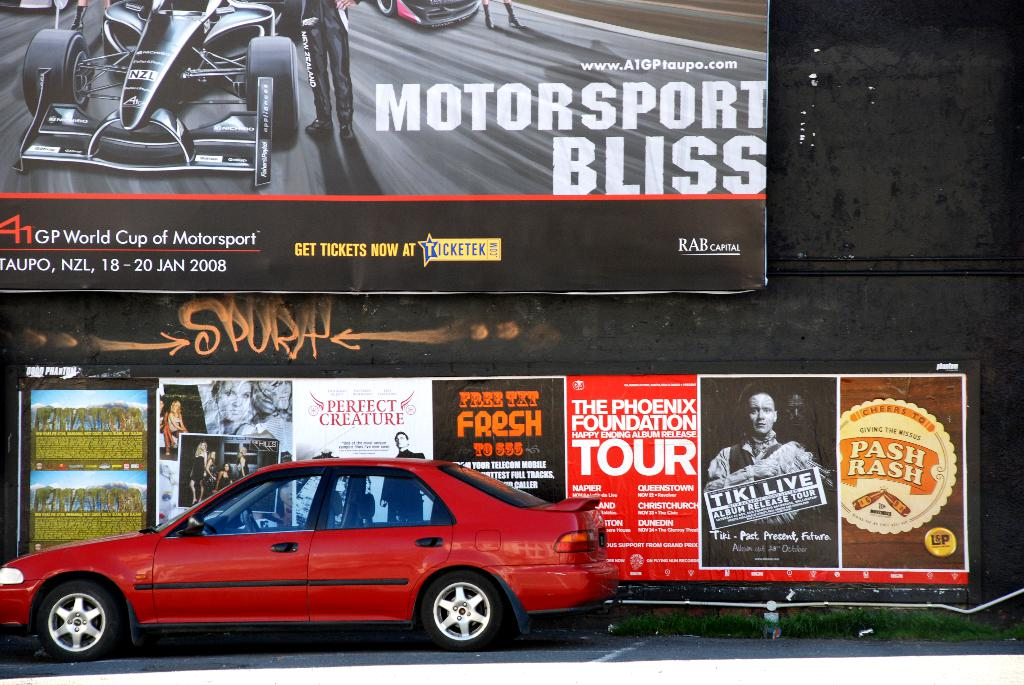Car: (0, 456, 620, 649), (10, 0, 304, 184), (367, 0, 483, 32), (0, 0, 73, 15)
